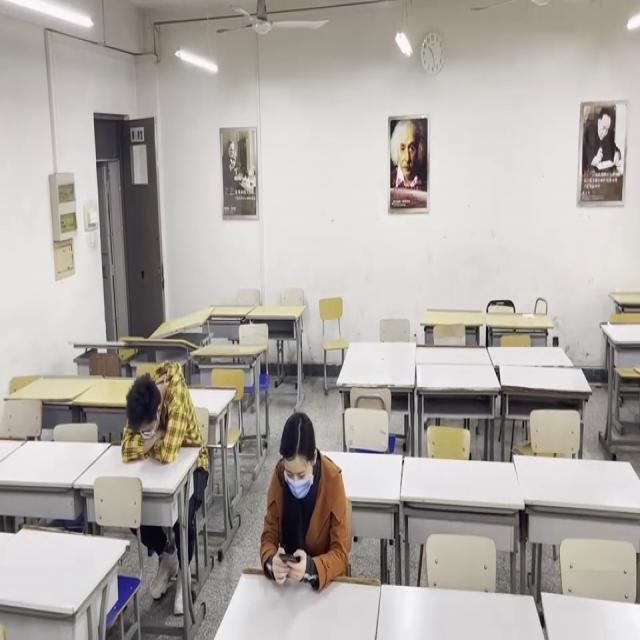phone: (259, 409, 352, 591)
sleep: (120, 366, 199, 463)
